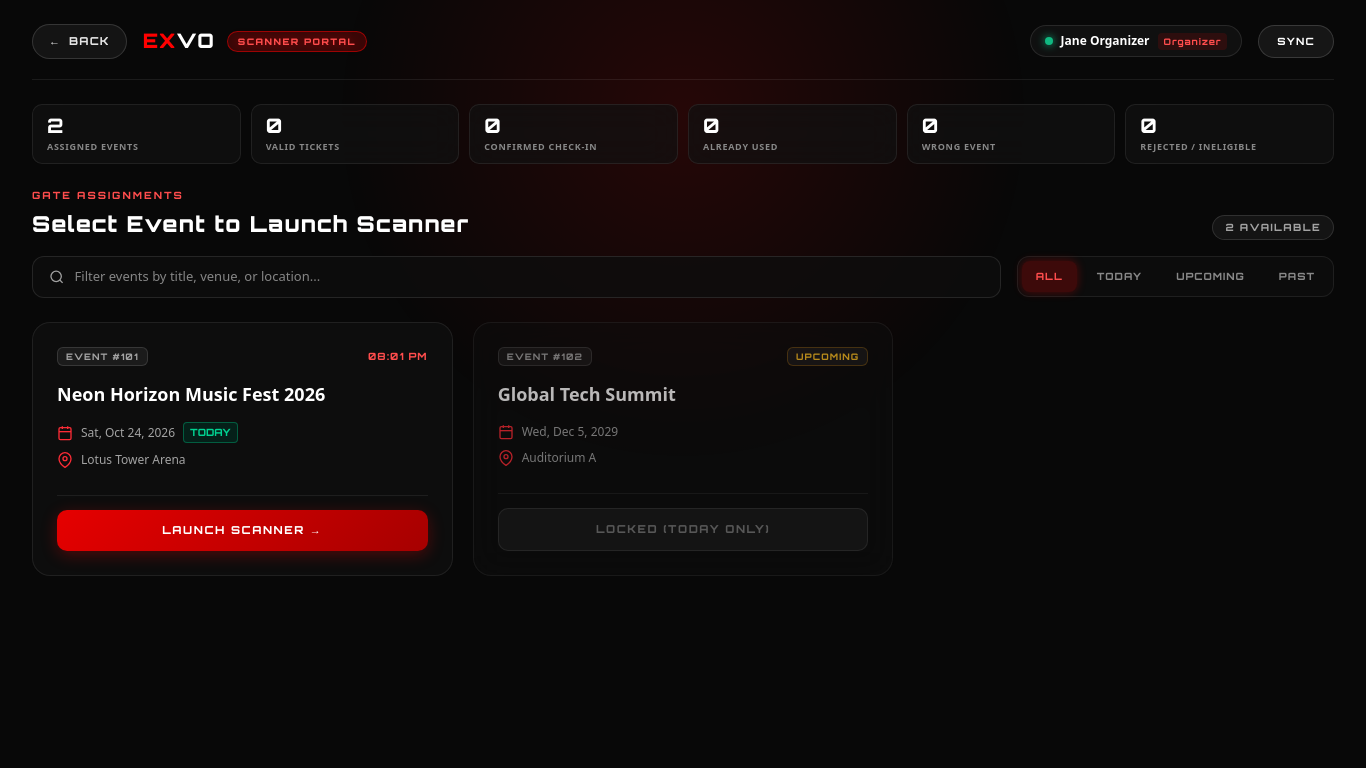
CoordinatorScannerPortal (SCRUM-30) › filters assigned events by search keyword
Expected: the heading "Neon Horizon Music Fest 2026" is shown, [57,382,325,406]
Type "Tech Summit" into the search field with placeholder "Filter events by title, venue, or location..." at x=529, y=277, box [75,267,984,286]
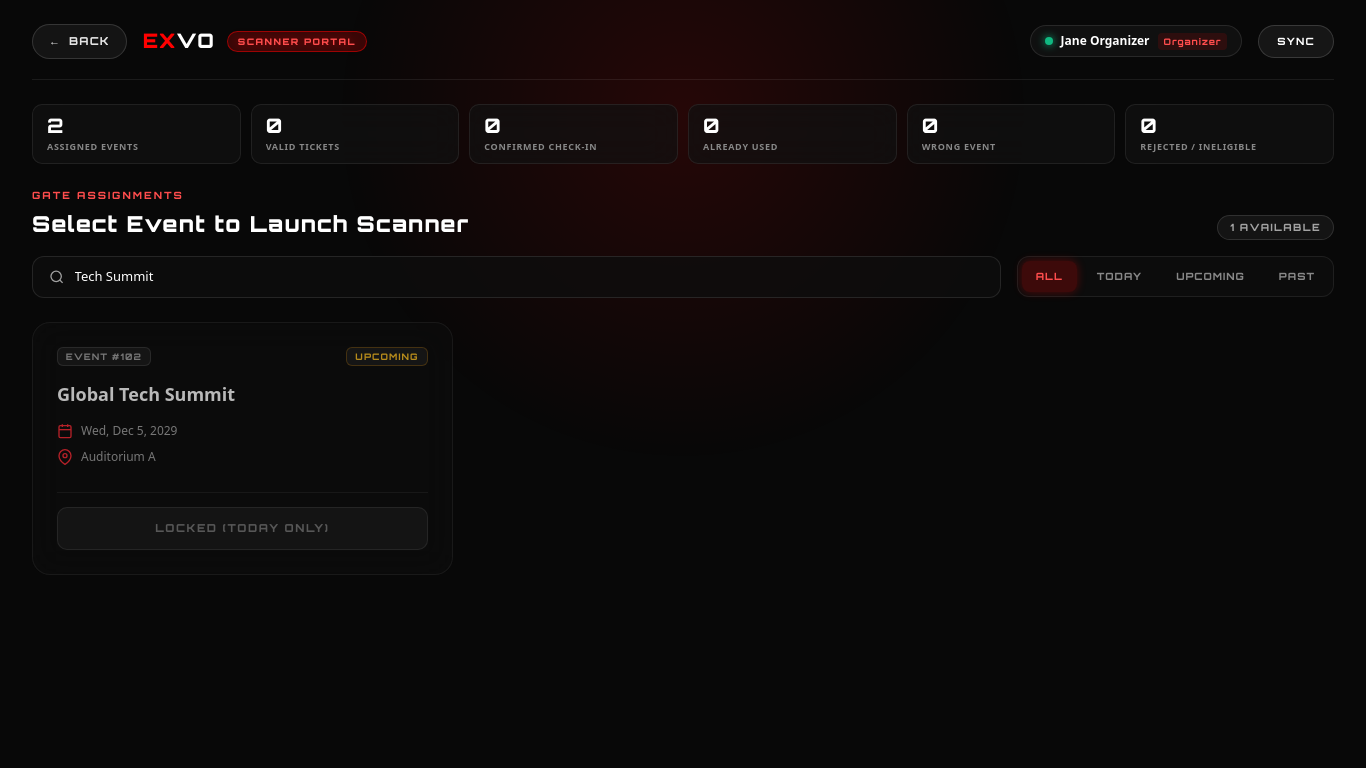
Expected: the heading "Global Tech Summit" is shown, [57,382,235,406]
Expected: the heading "Neon Horizon Music Fest 2026" is gone
